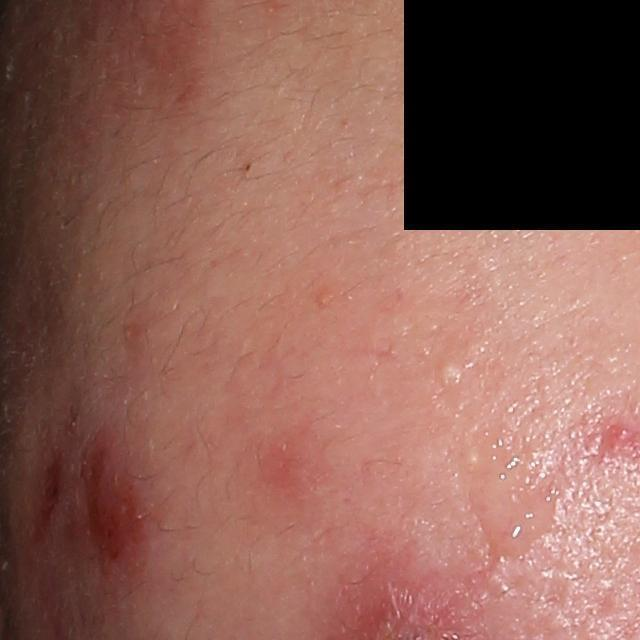comedo: (433, 357, 464, 383)
nodule: (69, 407, 156, 578)
papule: (606, 422, 638, 446)
